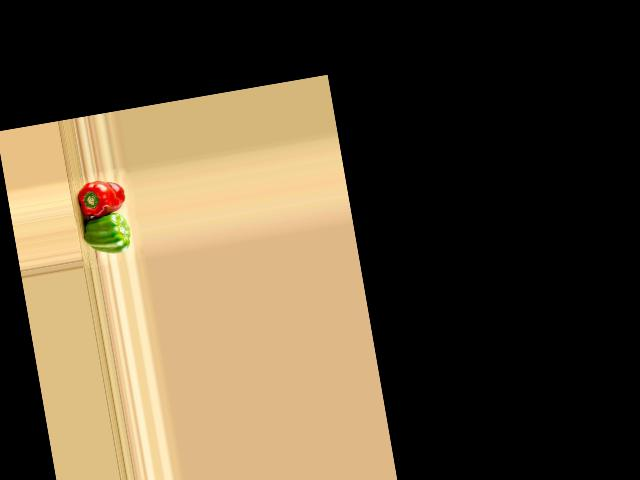bell_pepper: (75, 175, 128, 221)
